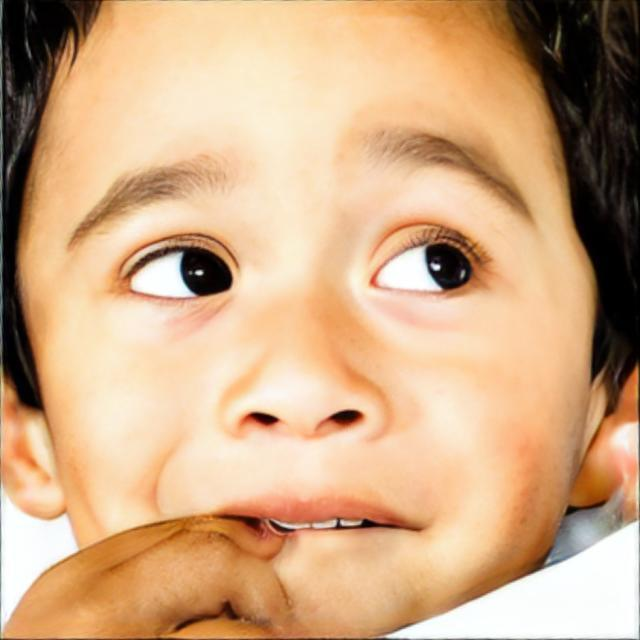fear: (18, 0, 600, 640)
